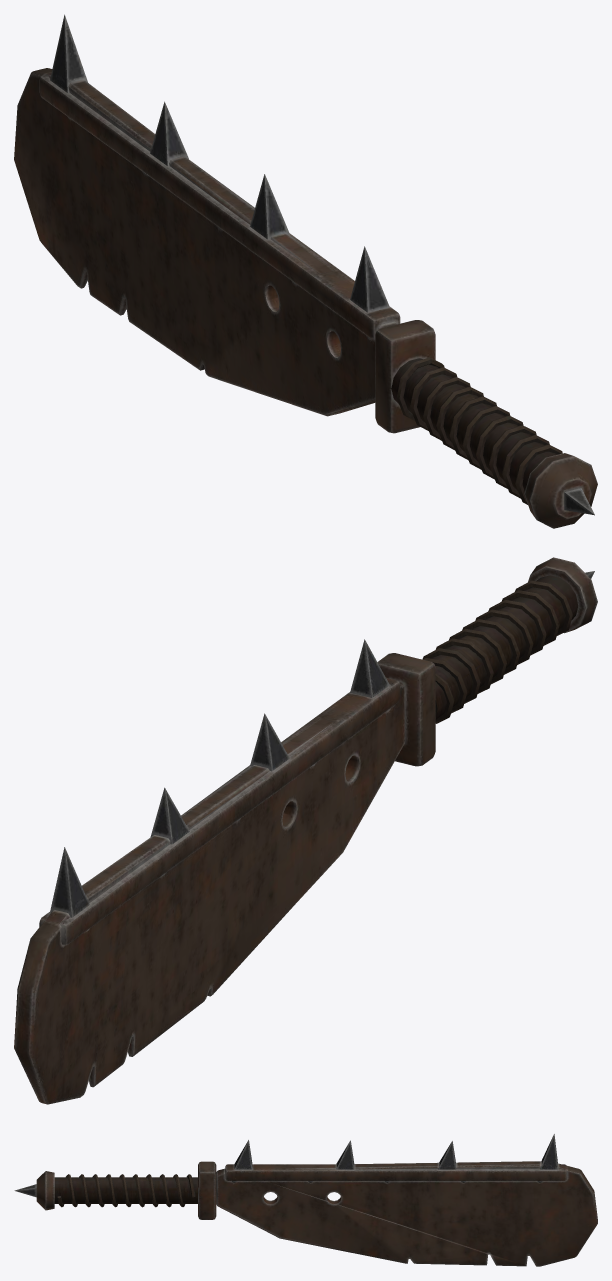
The model's file is vrepigh_cleaver_1h.glb.
3 views of the same model, one above another, from view 1: azimuth 30°, elevation 25°; view 2: azimuth 150°, elevation 25°; view 3: azimuth 270°, elevation 25° (orthographic). The views are drawn at different scales.
Visible parts, largest first — view 1: vrepigh_cleaver_1h; view 2: vrepigh_cleaver_1h; view 3: vrepigh_cleaver_1h.
Boxes of the visible parts, box(x1,y1,x2,y2) form: vrepigh_cleaver_1h: box(14, 14, 597, 528); vrepigh_cleaver_1h: box(14, 557, 597, 1104); vrepigh_cleaver_1h: box(14, 1134, 597, 1266).
Size of the model in its own units: 0.044 by 0.1619 by 0.644.
Materials: 1 (1 with a texture image).
